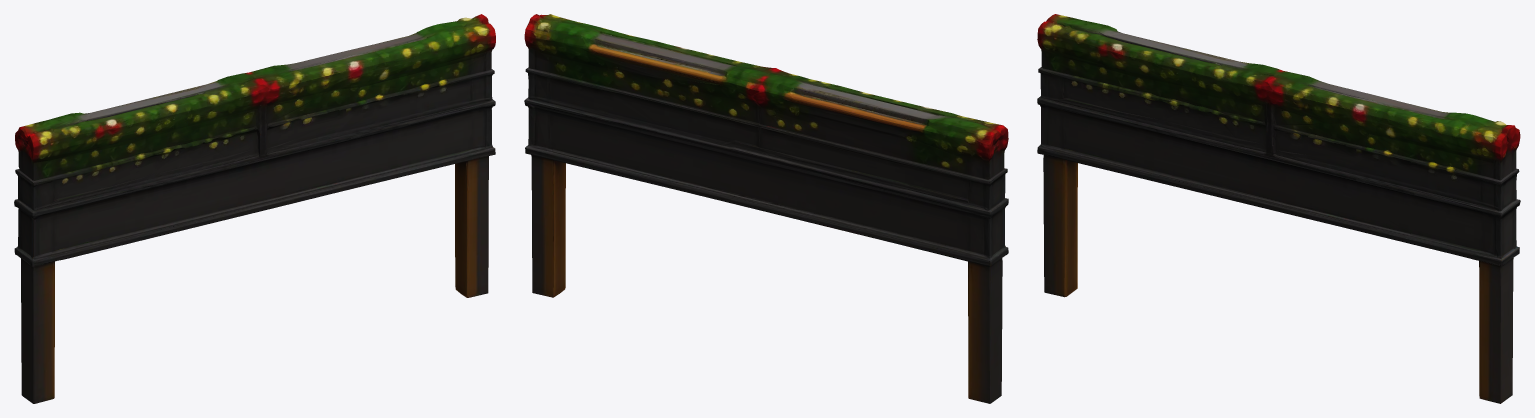
3 renders of one model, left to right at view 1: azimuth 30°, elevation 25°; view 2: azimuth 150°, elevation 25°; view 3: azimuth 330°, elevation 25°, orthographic.
Parts seen in each view (by area): view 1: geometry_0; view 2: geometry_0; view 3: geometry_0.
Part boxes in pixels (box(x1,y1,x2,y2)): geometry_0: box(14, 14, 495, 403); geometry_0: box(524, 14, 1008, 403); geometry_0: box(1037, 14, 1520, 403).
Bounding box in the file's own units: 1 × 0.5587 × 0.0783.
1 material, 1 textured.
